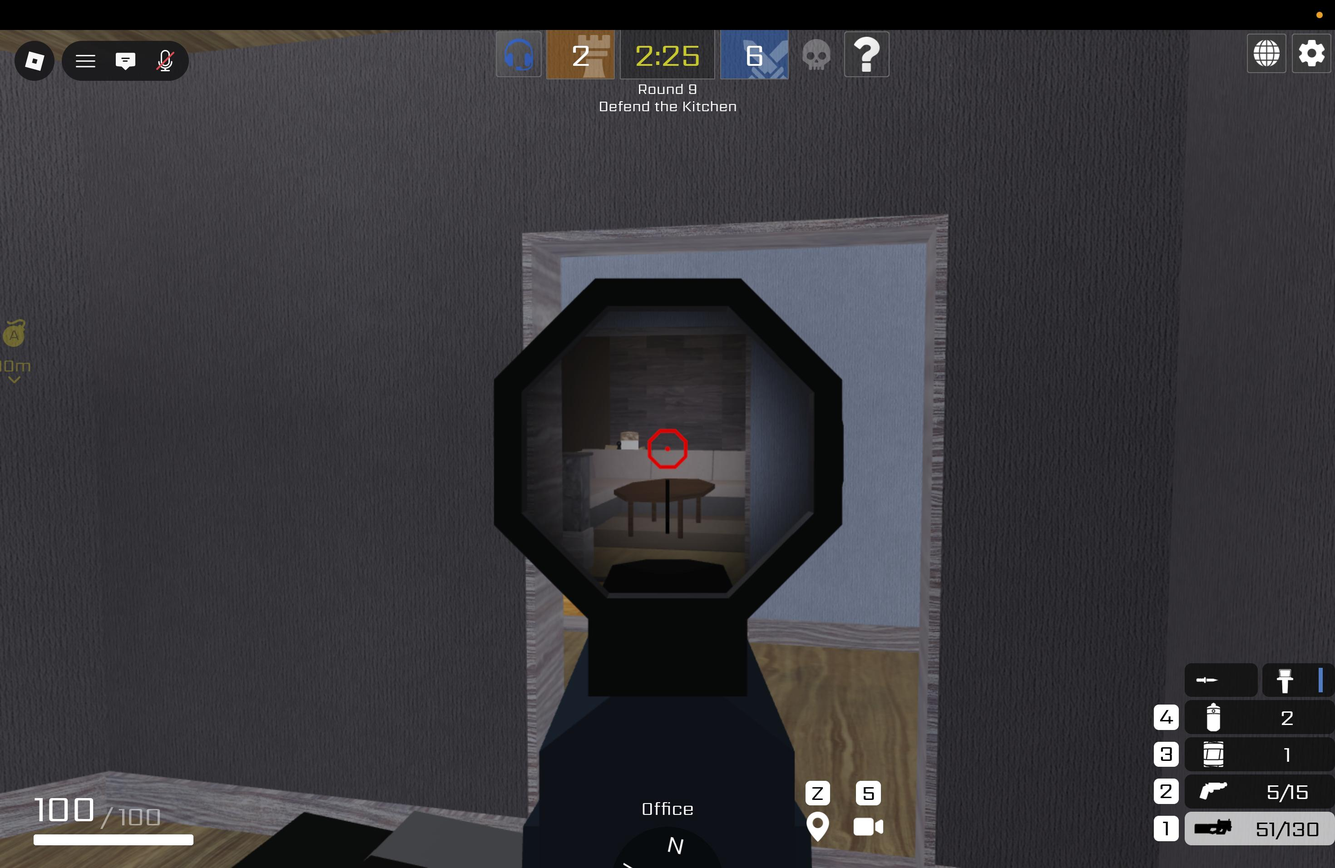enemy: (603, 431, 646, 450)
